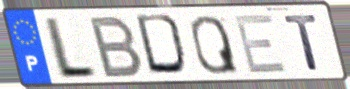B: (88, 13, 145, 80)
D: (133, 12, 192, 79)
E: (231, 12, 290, 75)
L: (43, 15, 99, 81)
Q: (188, 13, 241, 76)
T: (282, 13, 322, 72)
